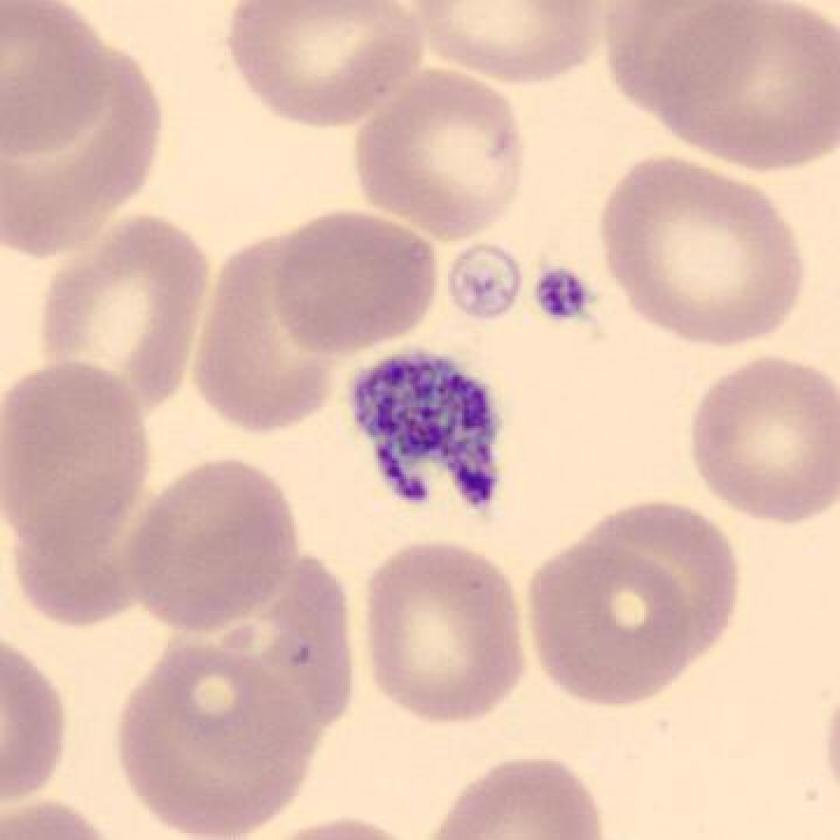platelets: (346, 346, 519, 517), (526, 258, 601, 334)
